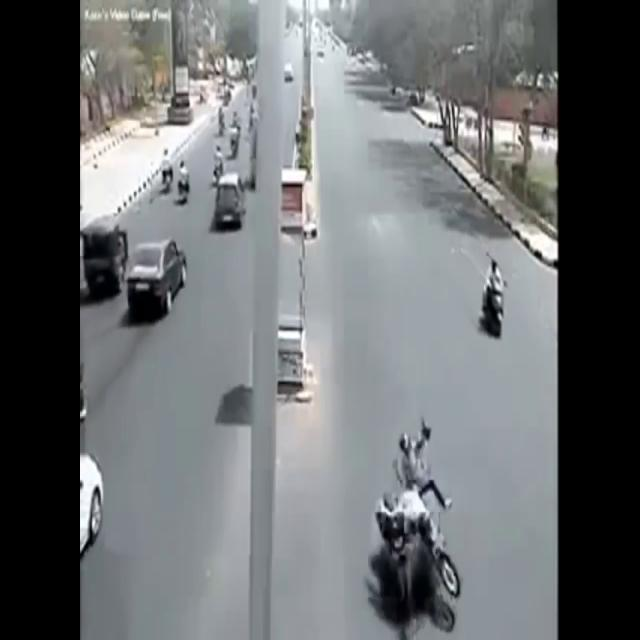multiple_accident: (368, 416, 485, 640)
normal: (60, 208, 203, 329), (197, 71, 255, 233), (152, 119, 206, 217), (473, 238, 519, 348)
single accident: (553, 8, 636, 634)
